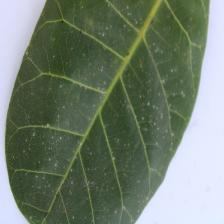red rust: (4, 0, 210, 224)
